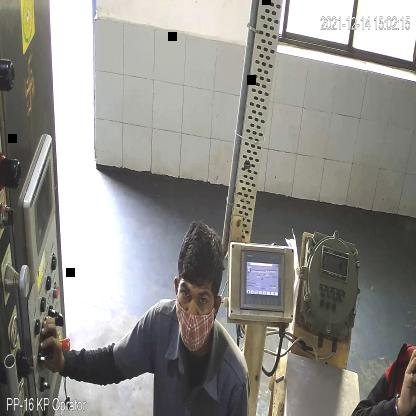no_goggles: (178, 279, 214, 312)
